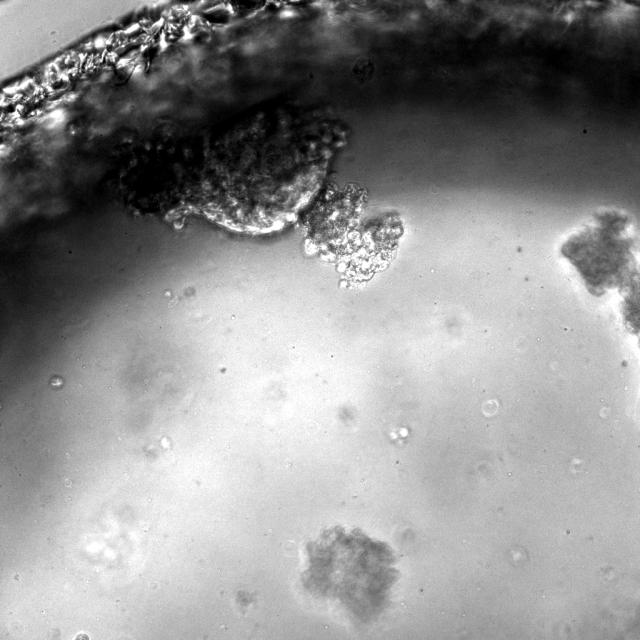organoid: (117, 101, 402, 287), (561, 209, 639, 336), (301, 525, 398, 621)
